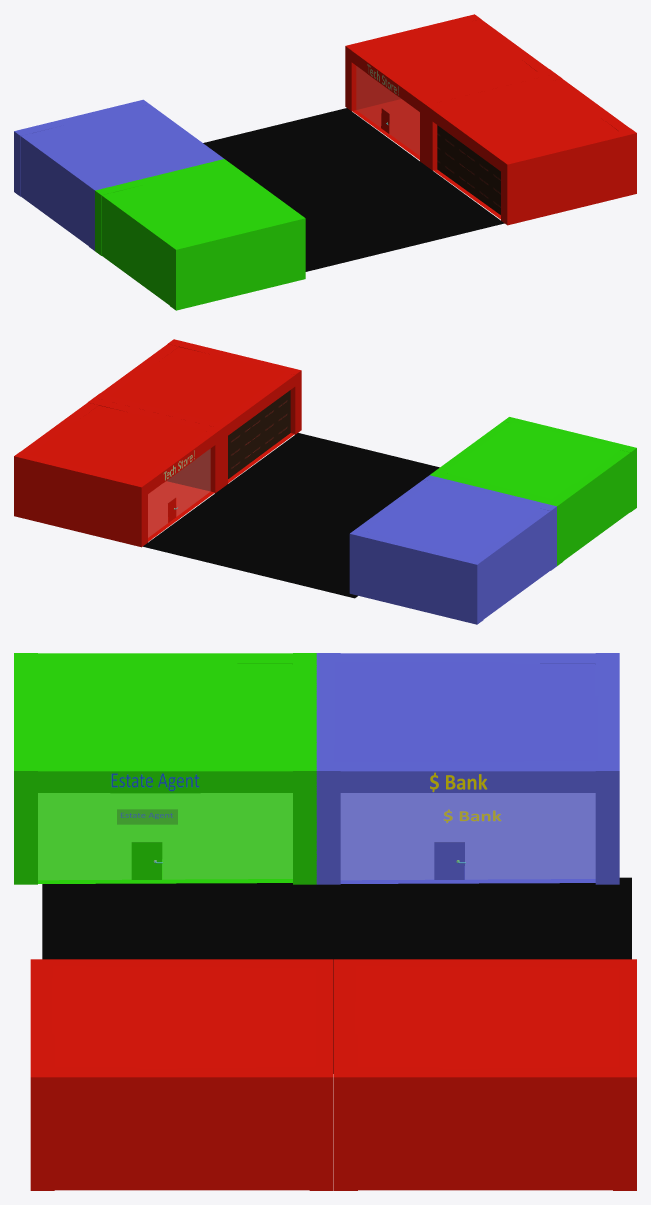
The model's file is Intro.gltf.
3 renders of one model, top to bottom at view 1: azimuth 30°, elevation 25°; view 2: azimuth 150°, elevation 25°; view 3: azimuth 270°, elevation 25°, orthographic. The views are drawn at different scales.
Visible parts, largest first — view 1: Plane.016, Cube.013, Cube.004, Plane.003, Plane.008, Plane.013, Plane.018, Cube.003, Cube.007, Plane.015, Plane.010, Cube.008 (+12 smaller); view 2: Plane.016, Cube.001, Cube.008, Plane.003, Plane.008, Plane.013, Plane.018, Cube.003, Cube.007, Plane.015, Plane.010, Cube.009 (+12 smaller); view 3: Plane.016, Cube.015, Cube.011, Plane.018, Plane.013, Plane.003, Plane.008, Plane.004, Plane.005, Plane, Plane.009, Cube (+17 smaller).
Boxes of the visible parts, <box> form: Plane.016: <box>203,108,504,271</box>; Cube.013: <box>501,128,636,225</box>; Cube.004: <box>169,213,305,310</box>; Plane.003: <box>32,105,210,183</box>; Plane.008: <box>113,164,291,243</box>; Plane.013: <box>359,20,537,97</box>; Plane.018: <box>440,79,618,157</box>; Cube.003: <box>20,133,98,245</box>; Cube.007: <box>101,192,179,304</box>; Plane.015: <box>437,125,500,214</box>; Plane.010: <box>356,66,419,155</box>; Cube.008: <box>345,14,480,111</box>; Plane.016: <box>143,433,439,598</box>; Cube.001: <box>349,529,483,624</box>; Cube.008: <box>14,451,147,547</box>; Plane.003: <box>364,481,541,557</box>; Plane.008: <box>444,422,621,498</box>; Plane.013: <box>29,405,206,481</box>; Plane.018: <box>109,347,286,422</box>; Cube.003: <box>472,508,550,618</box>; Cube.007: <box>552,450,630,560</box>; Plane.015: <box>228,390,290,478</box>; Plane.010: <box>148,449,210,537</box>; Cube.009: <box>88,398,221,493</box>; Plane.016: <box>42,877,631,1073</box>; Cube.015: <box>54,1067,309,1190</box>; Cube.011: <box>358,1067,612,1190</box>; Plane.018: <box>51,966,316,1069</box>; Plane.013: <box>355,966,619,1069</box>; Plane.003: <box>334,661,598,762</box>; Plane.008: <box>31,661,295,762</box>; Plane.004: <box>340,793,595,883</box>; Plane.005: <box>38,793,292,879</box>; Plane: <box>341,793,595,879</box>; Plane.009: <box>38,793,292,883</box>; Cube: <box>340,761,595,792</box>.
Bounding box in the file's own units: 83.75 × 11.07 × 51.96.
13 materials, 5 textured.
